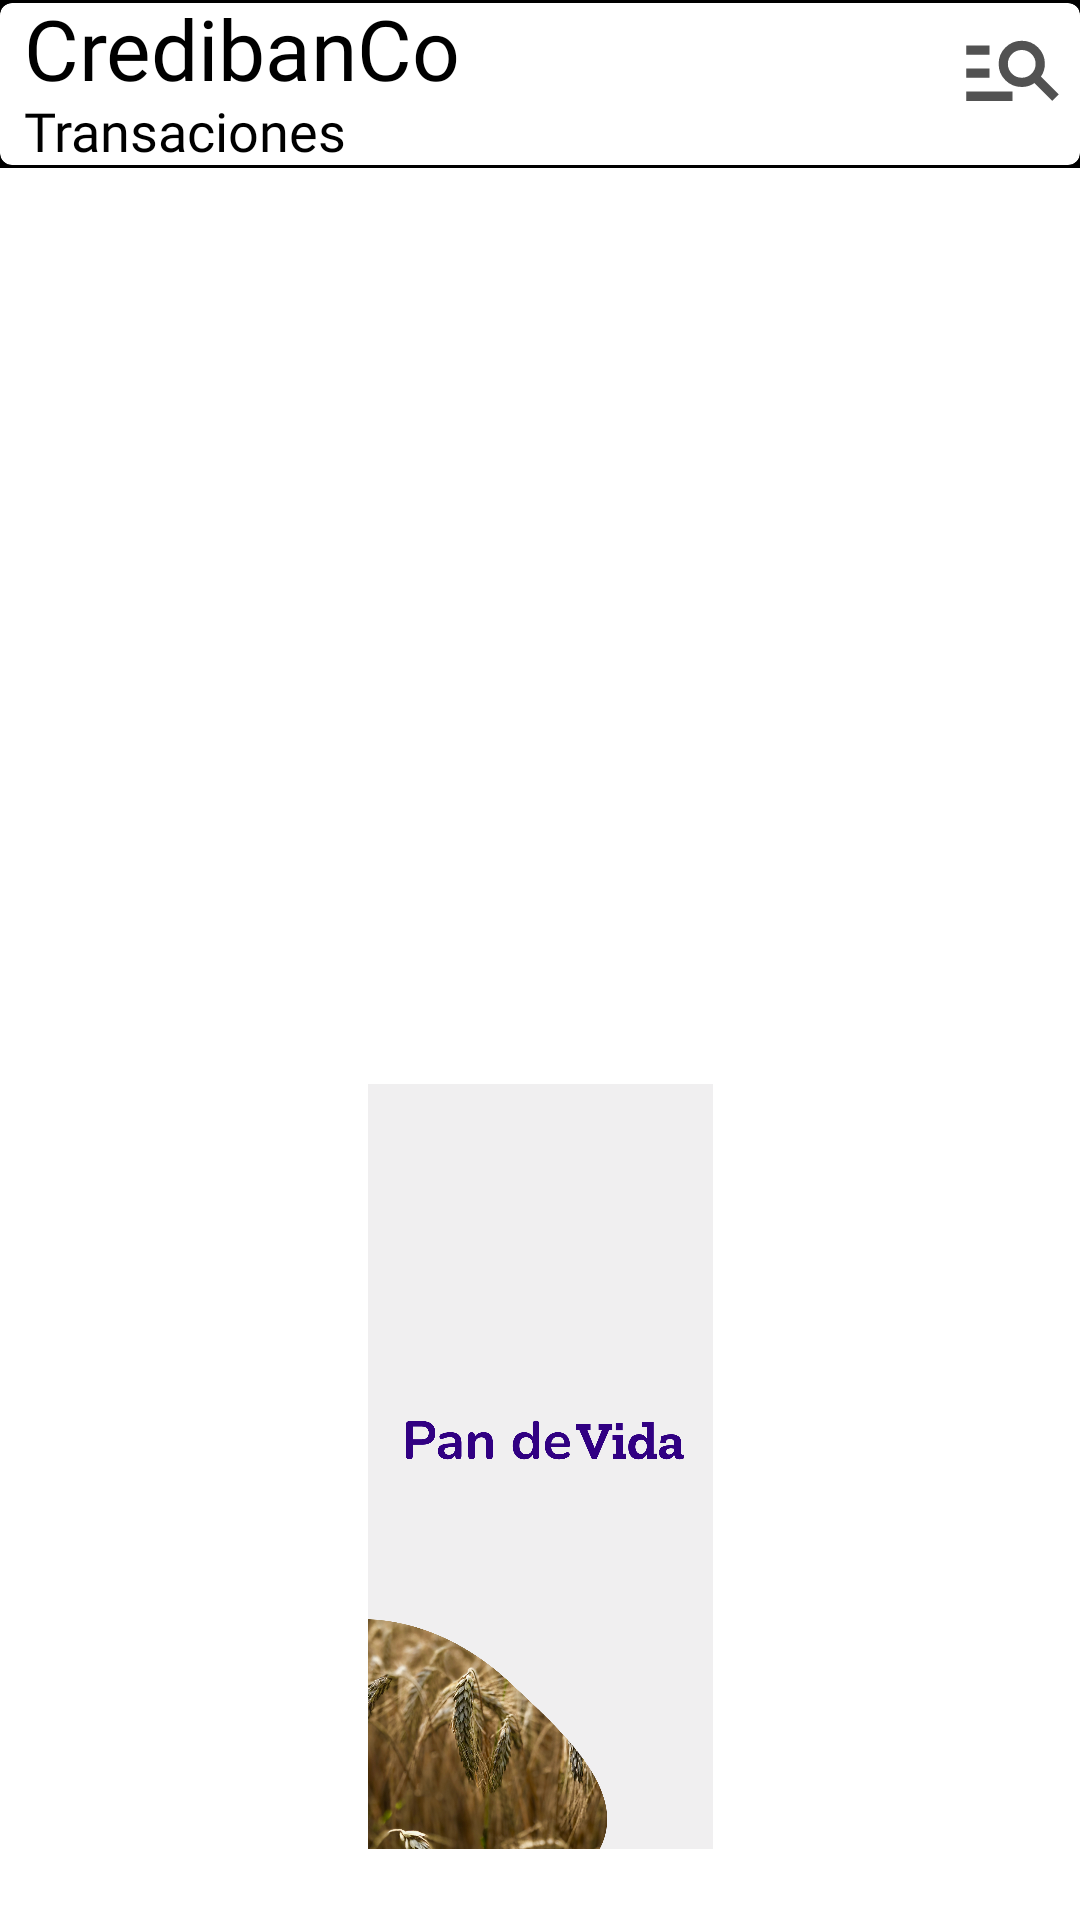

Icon bounding boxes for this 1080x1920 phone screenshot, format (x1, y1, x2, y2):
manage search: (966, 40, 1059, 101)
